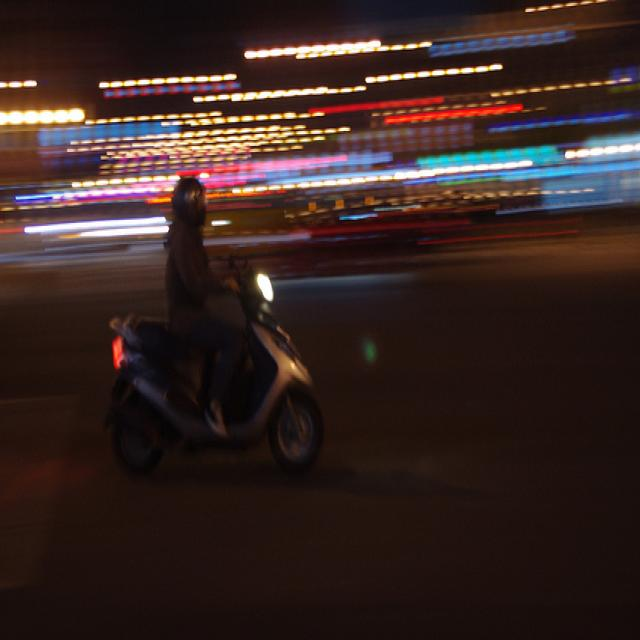Motorbike: (106, 274, 327, 479)
People: (146, 177, 249, 448)
